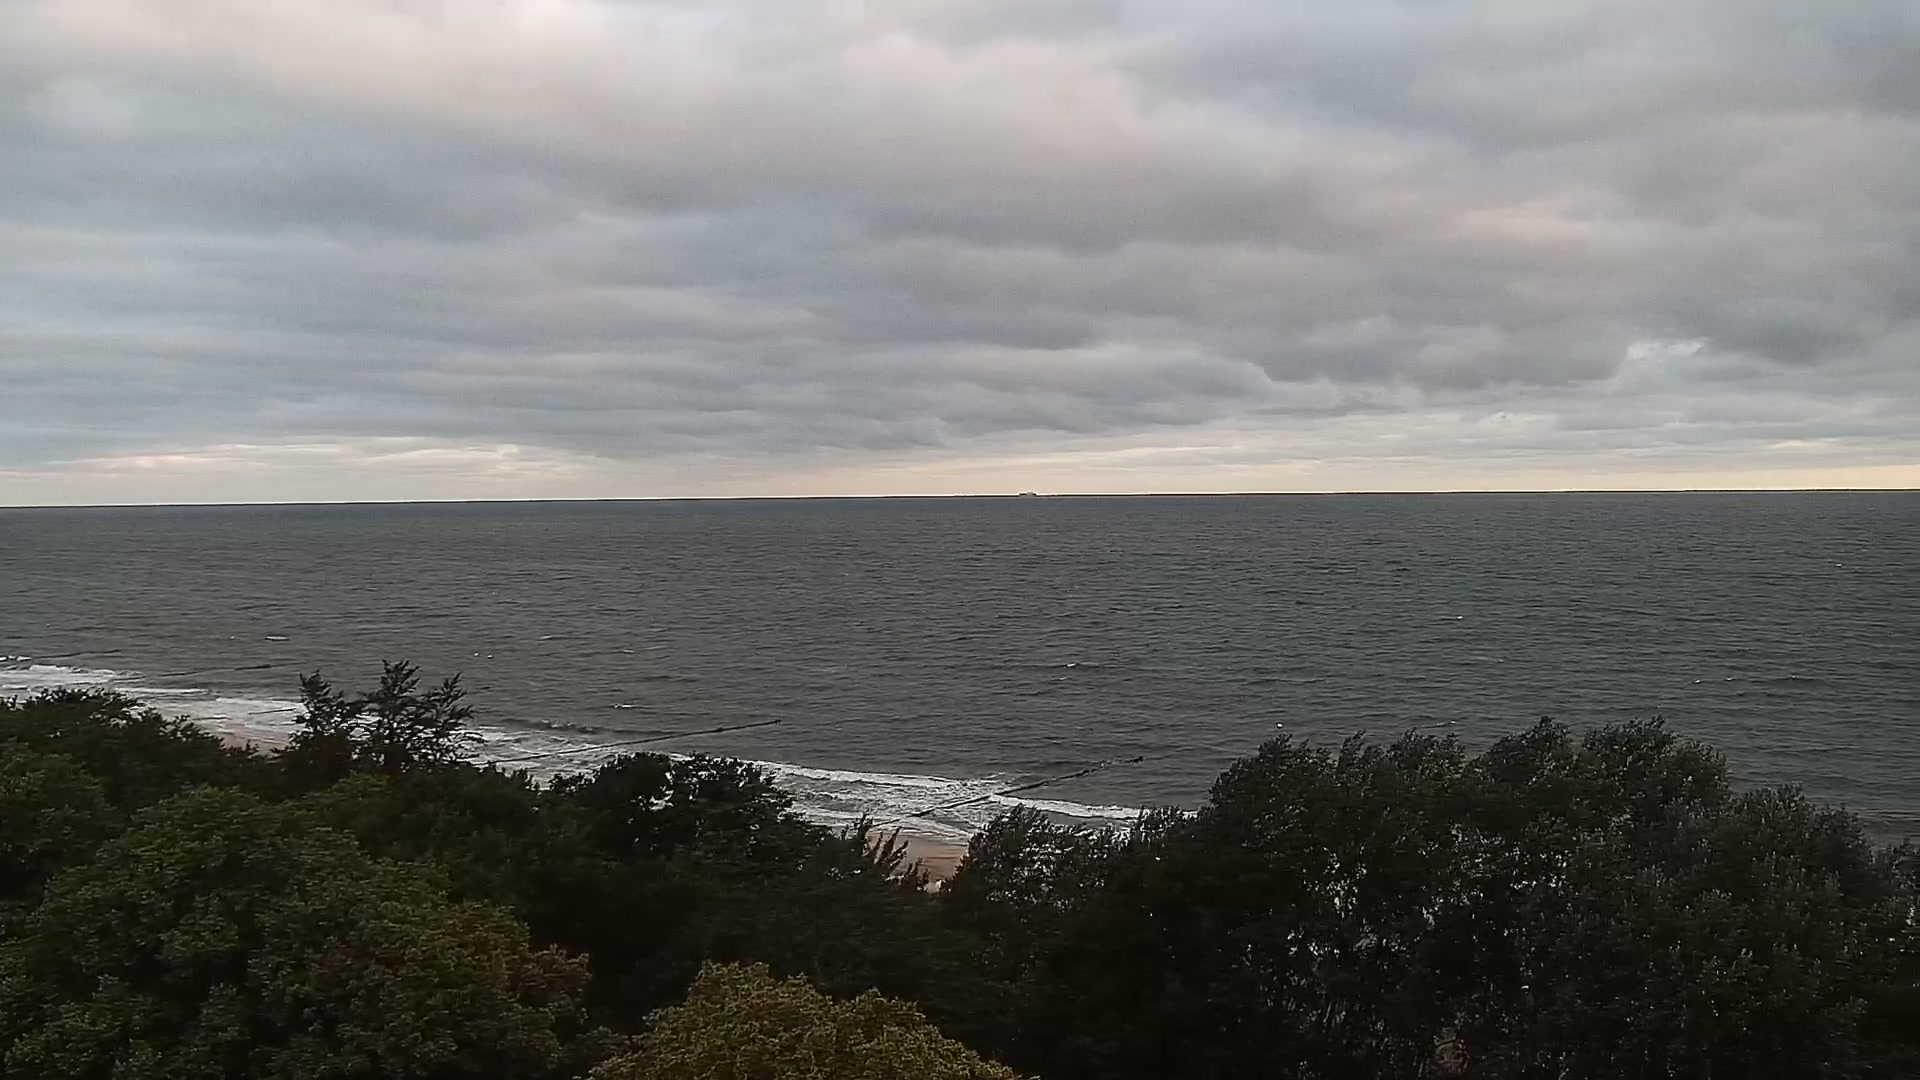sea: (1019, 491, 1036, 496)
